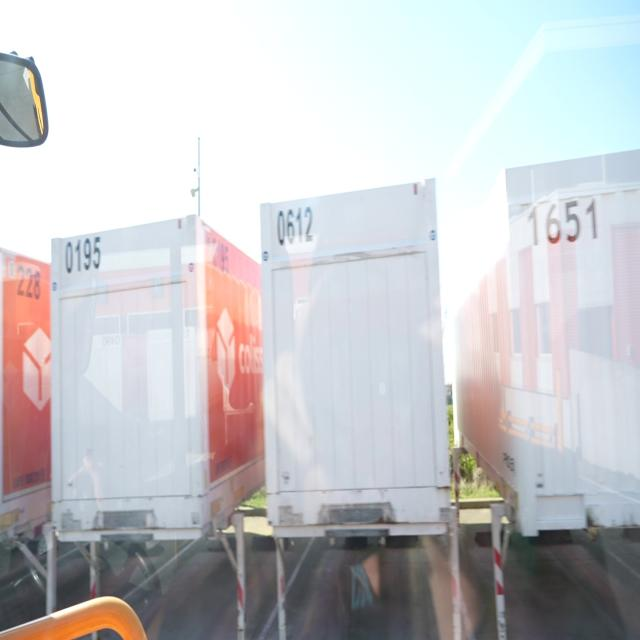Code: (521, 183, 604, 250), (273, 196, 315, 252), (60, 231, 103, 281), (14, 256, 46, 304)
